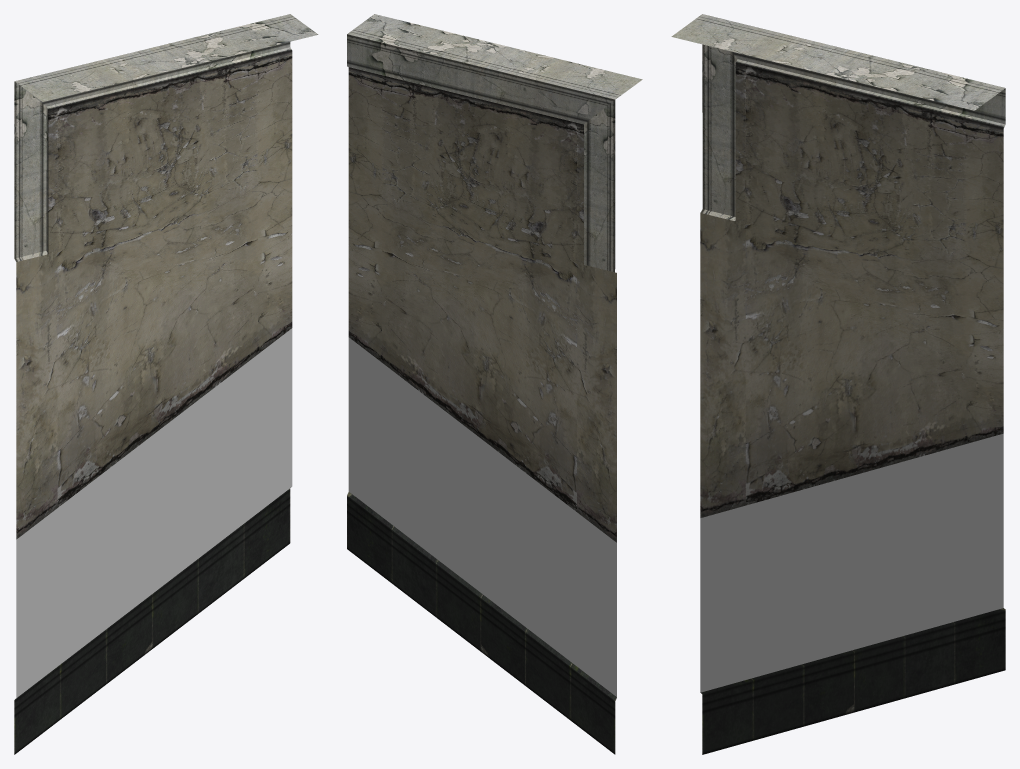
The model's file is urban_damaged_small_left_angled_wall.dae.
The picture shows the model from 3 angles, left to right: view 1: azimuth 30°, elevation 25°; view 2: azimuth 150°, elevation 25°; view 3: azimuth 330°, elevation 25°; orthographic projection. The views are drawn at different scales.
Parts seen in each view (by area): view 1: polySurface344, polySurface343, polySurface341, polySurface342; view 2: polySurface344, polySurface343, polySurface341, polySurface342; view 3: polySurface344, polySurface343, polySurface342, polySurface341.
Boxes of the visible parts, <box> form: polySurface344: <box>16,50,292,539</box>; polySurface343: <box>16,328,292,697</box>; polySurface341: <box>14,14,318,261</box>; polySurface342: <box>14,488,290,754</box>; polySurface344: <box>348,67,616,542</box>; polySurface343: <box>348,337,616,696</box>; polySurface341: <box>347,14,642,272</box>; polySurface342: <box>347,492,616,754</box>; polySurface344: <box>700,63,1003,517</box>; polySurface343: <box>700,433,1003,692</box>; polySurface342: <box>700,608,1005,754</box>; polySurface341: <box>671,14,1005,221</box>.
Size of the model in its own units: 3 by 7 by 0.5386.
